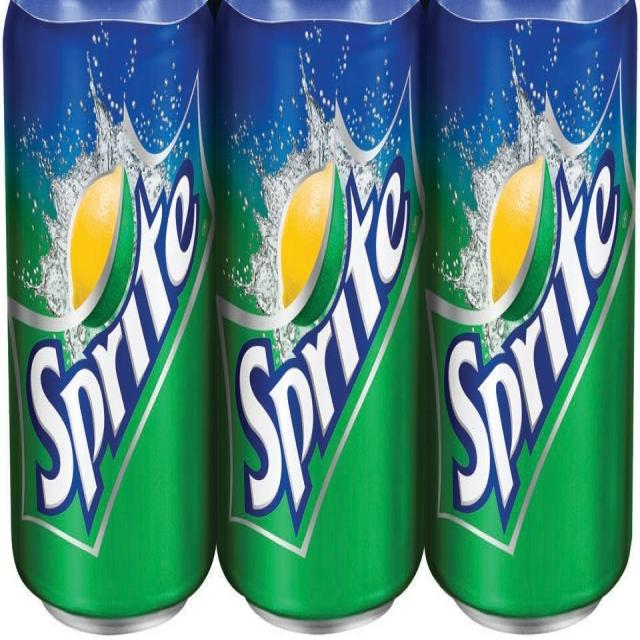sprite: (220, 0, 434, 626), (2, 0, 216, 615), (435, 6, 639, 628)
